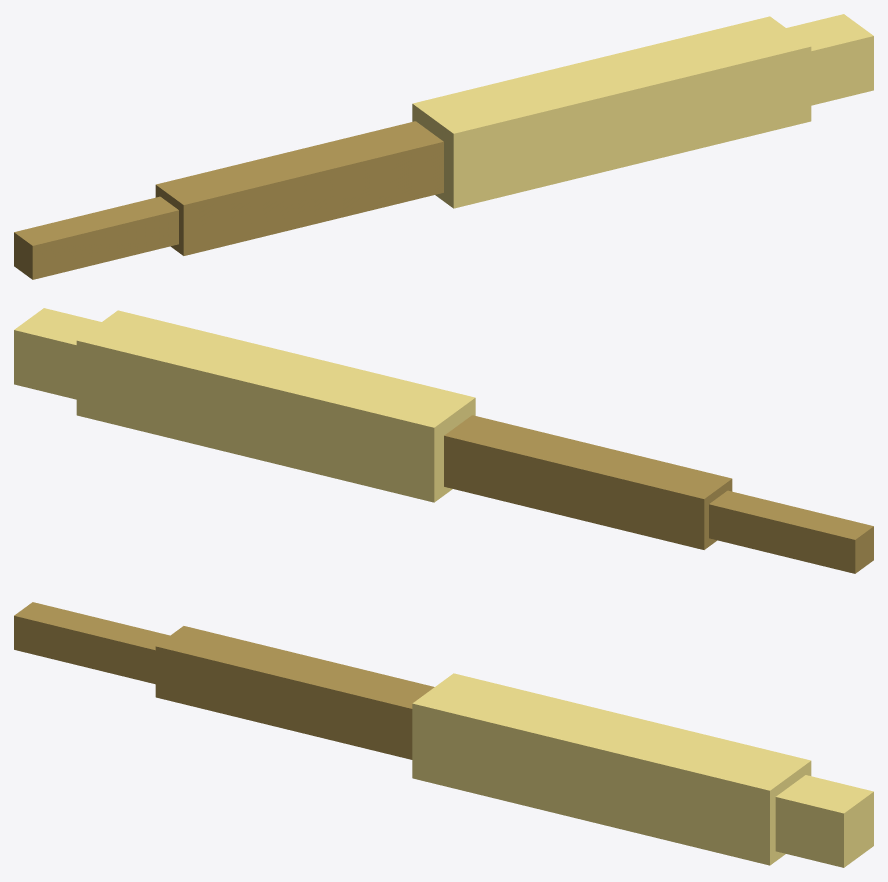
The model's file is projectile_bullet.glb.
3 renders of one model, top to bottom at view 1: azimuth 30°, elevation 25°; view 2: azimuth 150°, elevation 25°; view 3: azimuth 330°, elevation 25°, orthographic.
Visible parts, largest first — view 1: Tracer, accent_TracerTail; view 2: Tracer, accent_TracerTail; view 3: Tracer, accent_TracerTail.
Boxes of the visible parts, x1,y1,x2,y2 form: Tracer: [412, 14, 873, 208]; accent_TracerTail: [14, 121, 443, 279]; Tracer: [14, 308, 475, 502]; accent_TracerTail: [444, 415, 873, 573]; Tracer: [412, 673, 873, 867]; accent_TracerTail: [14, 602, 434, 759].
Size of the model in its own units: 1.29 by 0.11 by 0.11.
